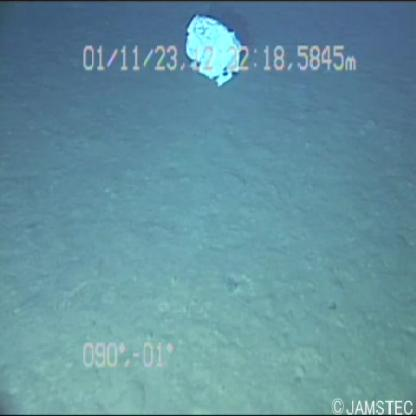Rác: (184, 12, 244, 93)
